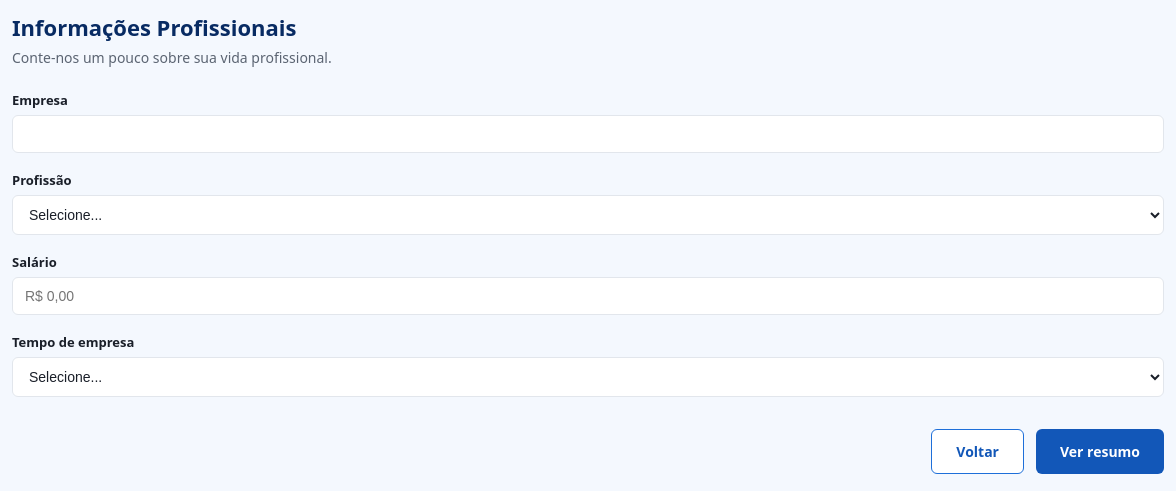
it: Step3Professional › formats the salary field as currency
Type "500000" into the field labelled "Salário".
click(588, 296); type("500000")  # box [12, 277, 1164, 315]
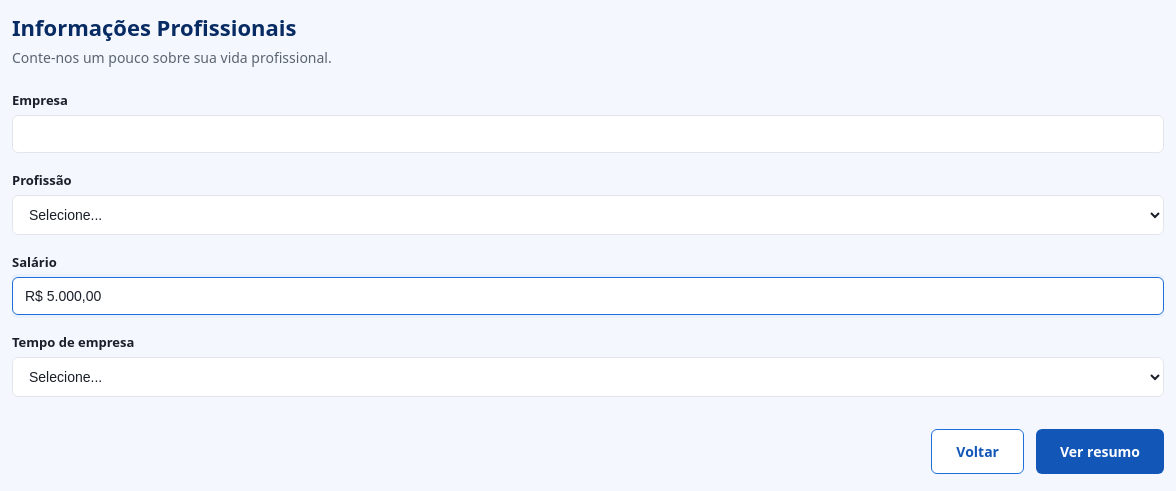
Expected: the field labelled "Salário" holds "R$ 5.000,00", [12, 277, 1164, 315]
